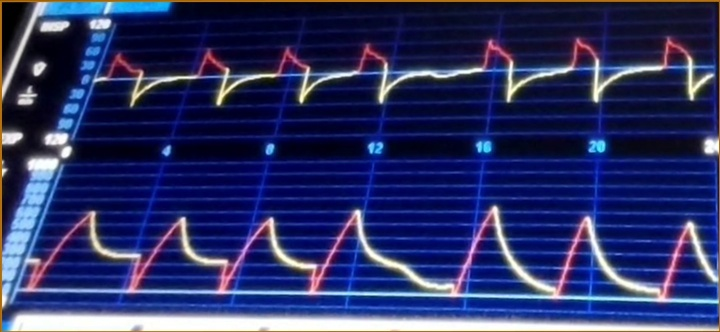Flow: (108, 29, 710, 134)
Leakage Volume: (50, 186, 711, 307)
